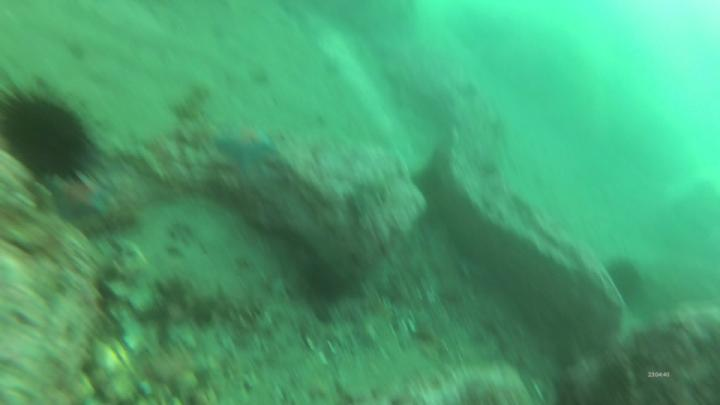echinus: (4, 103, 91, 174), (607, 261, 644, 304)
holothurian: (168, 275, 263, 328), (181, 87, 211, 121)
starfish: (217, 121, 275, 169), (51, 178, 114, 220)
